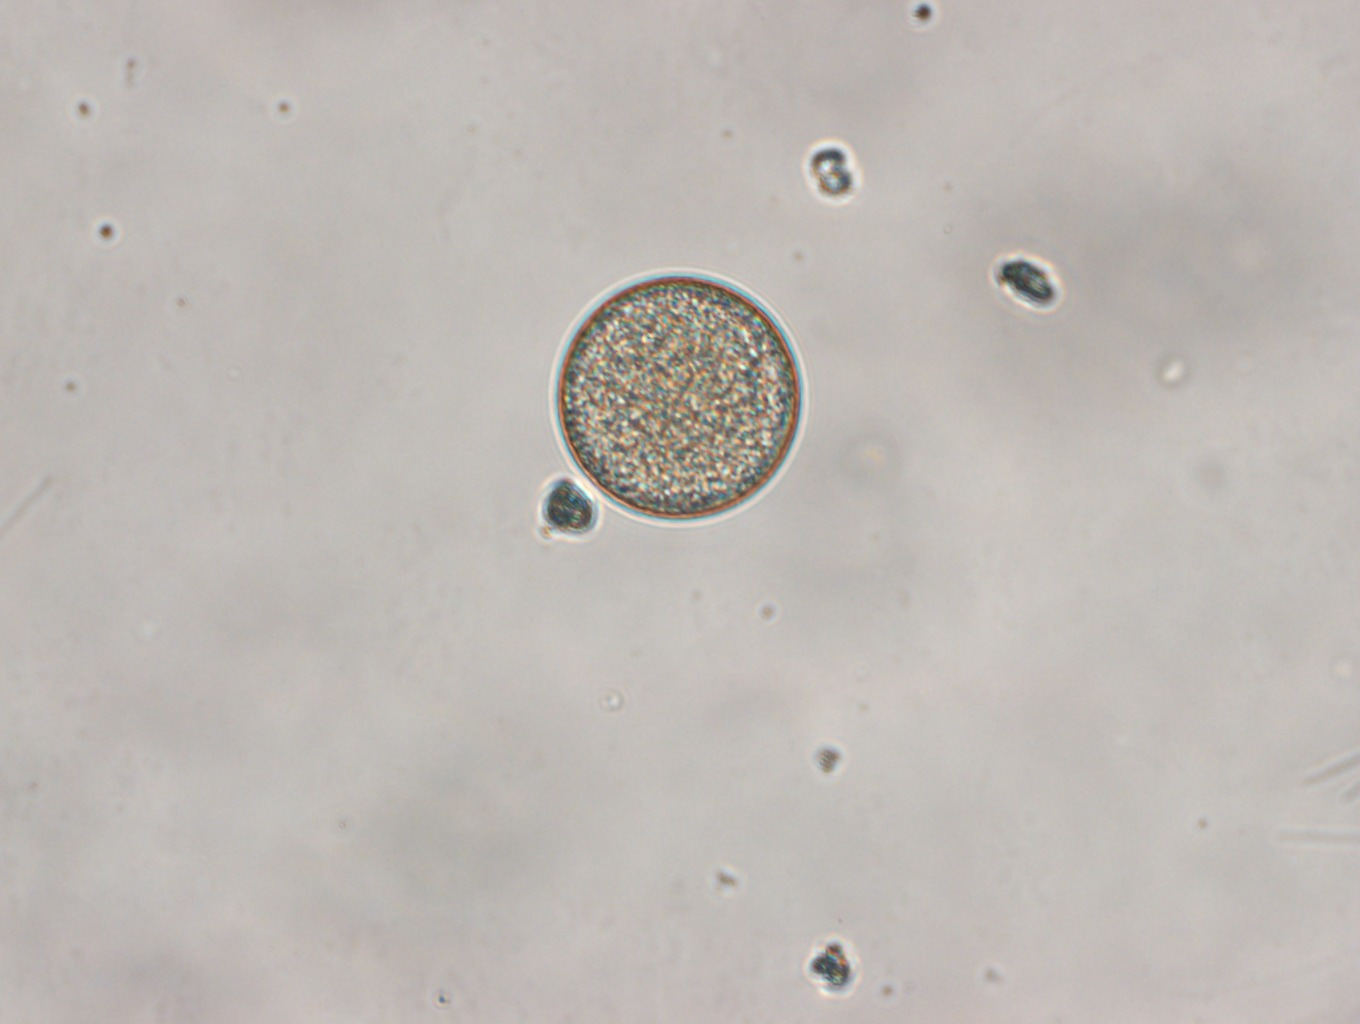coscinodiscus: (552, 267, 807, 527)
